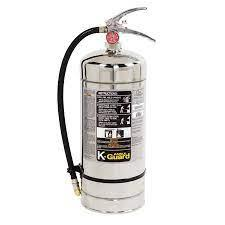Fire Extinguisher: (51, 4, 173, 218)
